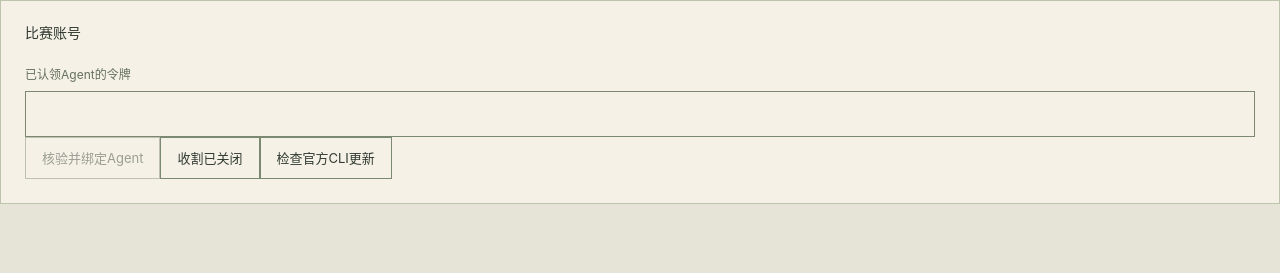
Scenario: checks latest version and only offers a manual update notice
Click the button labelled "检查官方CLI更新": point(326, 158) [260, 137, 392, 179]
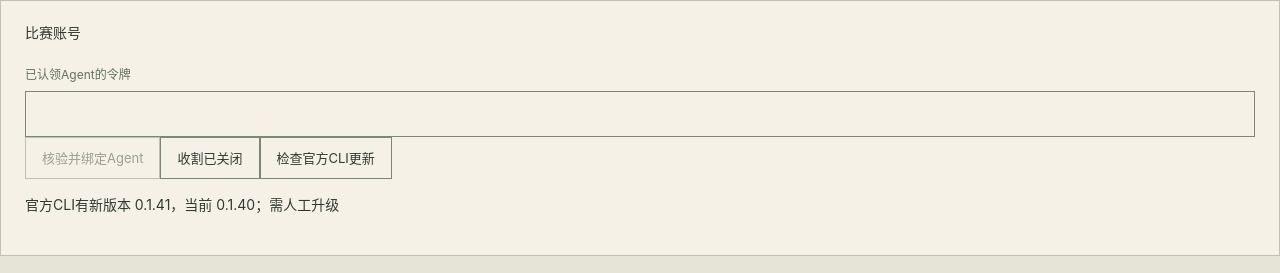
expect the text "官方CLI有新版本 0.1.41，当前 0.1.40；需人工升级" is shown: met, box [25, 196, 339, 213]
